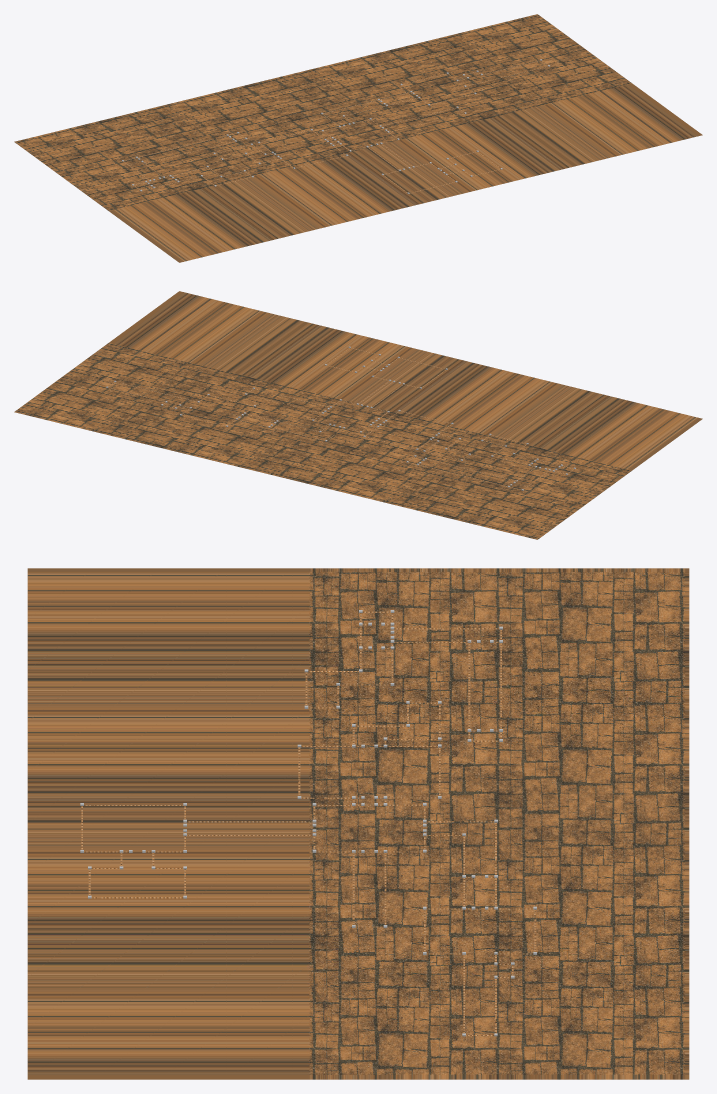
File: CatacombsFBXResize.fbx
3 renders of one model, top to bottom at view 1: azimuth 30°, elevation 25°; view 2: azimuth 150°, elevation 25°; view 3: azimuth 270°, elevation 25°, orthographic. The views are drawn at different scales.
Visible parts, largest first — view 1: CeilingPlane_Catacombs, Walls_Catacombs, Walls2_Catacombs, Corners_Catacombs; view 2: CeilingPlane_Catacombs, Walls_Catacombs, Walls2_Catacombs, Corners_Catacombs; view 3: CeilingPlane_Catacombs, Walls_Catacombs, Walls2_Catacombs, Corners_Catacombs.
Part boxes in pixels (x1,y1,x2,y2): CeilingPlane_Catacombs: (14,14,702,262); Walls_Catacombs: (124,60,547,192); Walls2_Catacombs: (123,62,546,193); Corners_Catacombs: (121,59,549,193); CeilingPlane_Catacombs: (14,291,702,539); Walls_Catacombs: (108,348,573,489); Walls2_Catacombs: (109,348,574,489); Corners_Catacombs: (106,346,575,490); CeilingPlane_Catacombs: (27,568,689,1079); Walls_Catacombs: (81,611,536,1035); Walls2_Catacombs: (81,611,536,1035); Corners_Catacombs: (80,610,536,1036).
Size of the model in its own units: 122024 by 1105 by 66770.
